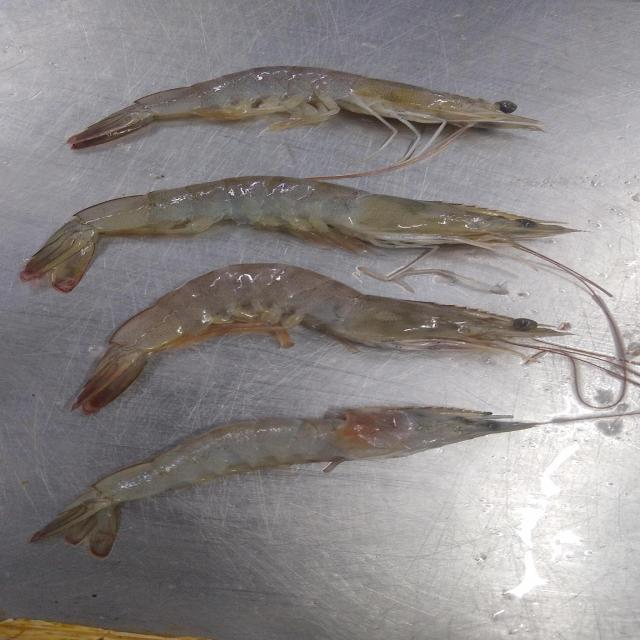shrimp: (31, 406, 547, 558), (73, 264, 567, 414), (20, 176, 576, 292), (67, 66, 544, 164)
